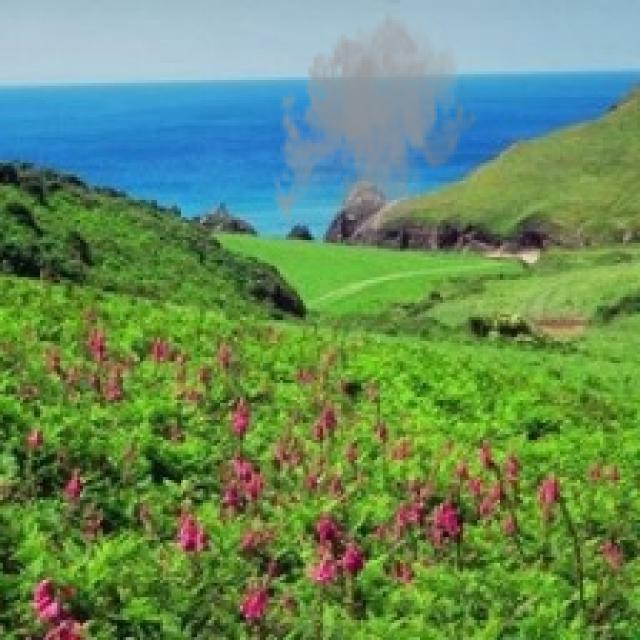smoke: (269, 3, 480, 257)
